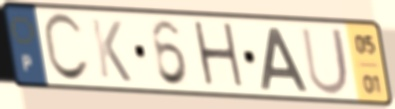6: (150, 17, 190, 90)
A: (258, 25, 311, 94)
C: (40, 11, 93, 86)
H: (189, 18, 249, 94)
K: (87, 15, 134, 85)
U: (297, 24, 352, 99)
